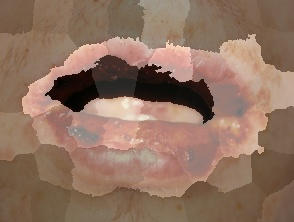SJS-TEN: (9, 7, 285, 210)
